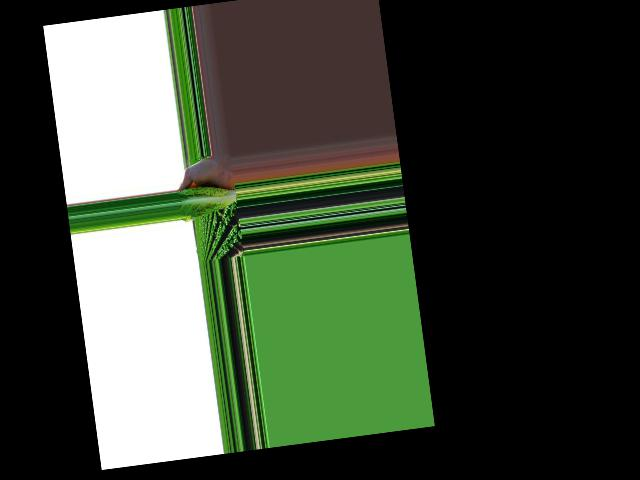lettuce: (178, 182, 239, 220)
